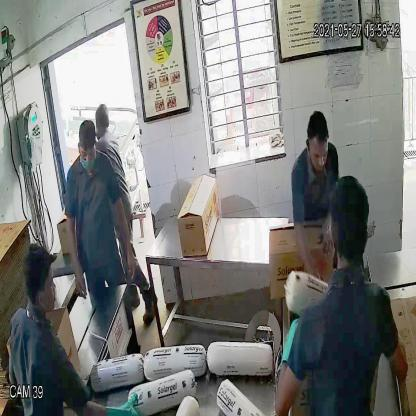no_goggles: (306, 141, 330, 165), (74, 141, 100, 162)
